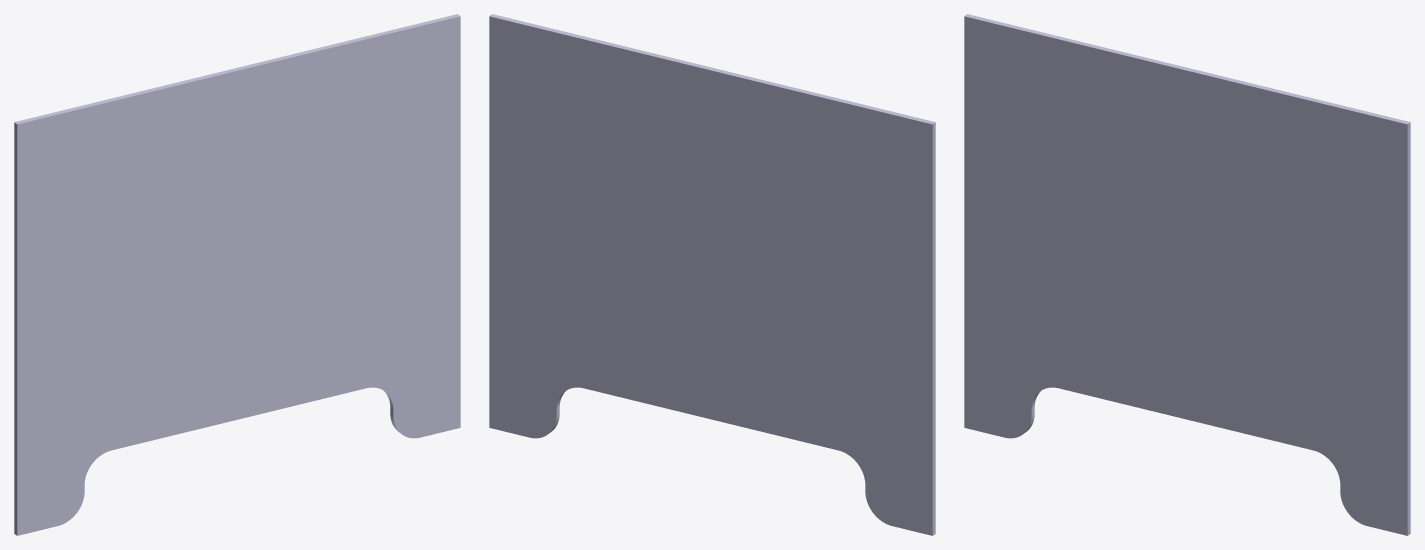
The model's file is mainbody.dae.
The picture shows the model from 3 angles, left to right: view 1: azimuth 30°, elevation 25°; view 2: azimuth 150°, elevation 25°; view 3: azimuth 330°, elevation 25°; orthographic projection.
Visible parts, largest first — view 1: node0; view 2: node0; view 3: node0.
Part boxes in pixels (bbox=[...]): node0: bbox=[14, 14, 460, 535]; node0: bbox=[489, 14, 935, 535]; node0: bbox=[964, 14, 1410, 535].
Bounding box in the file's own units: 0.1638 × 0.002 × 0.1452.
